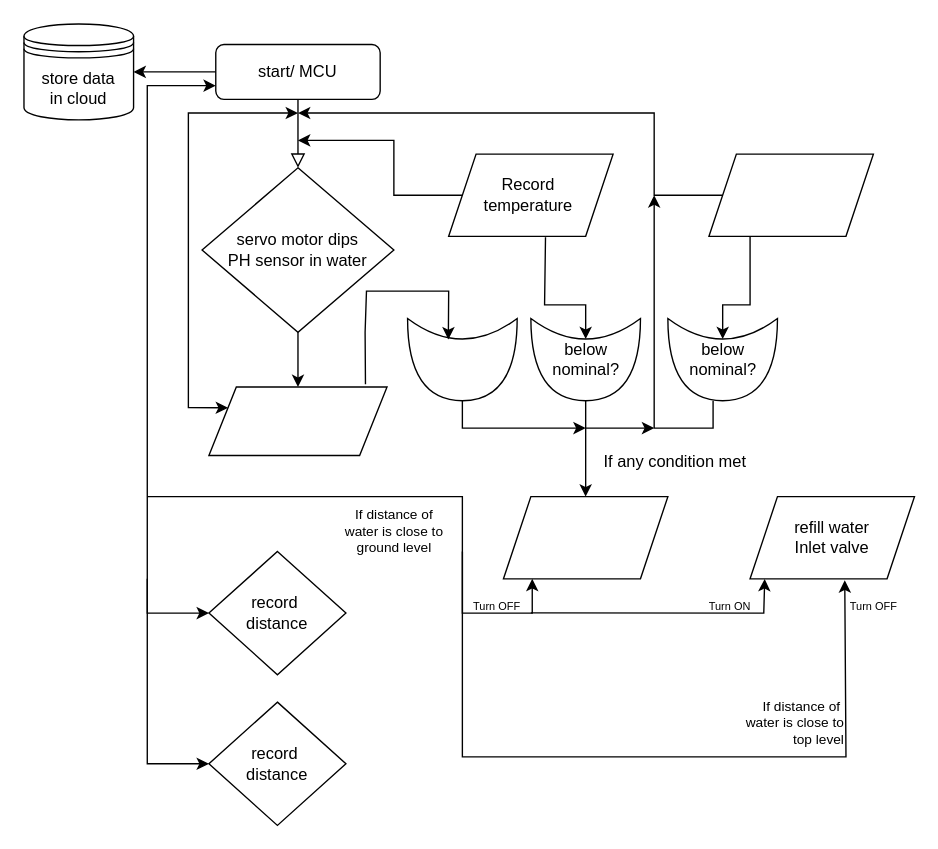
Image size: 938x849. Some labels were removed from this diagram. The centre of each missing label's shape, as x and y in pixels:
"below nominal ?" goes at point (461, 359).
"dispel water outlet valve" goes at point (585, 537).
"PH sensor records PH" goes at point (297, 421).
"Record Turbidity" goes at point (790, 194).
